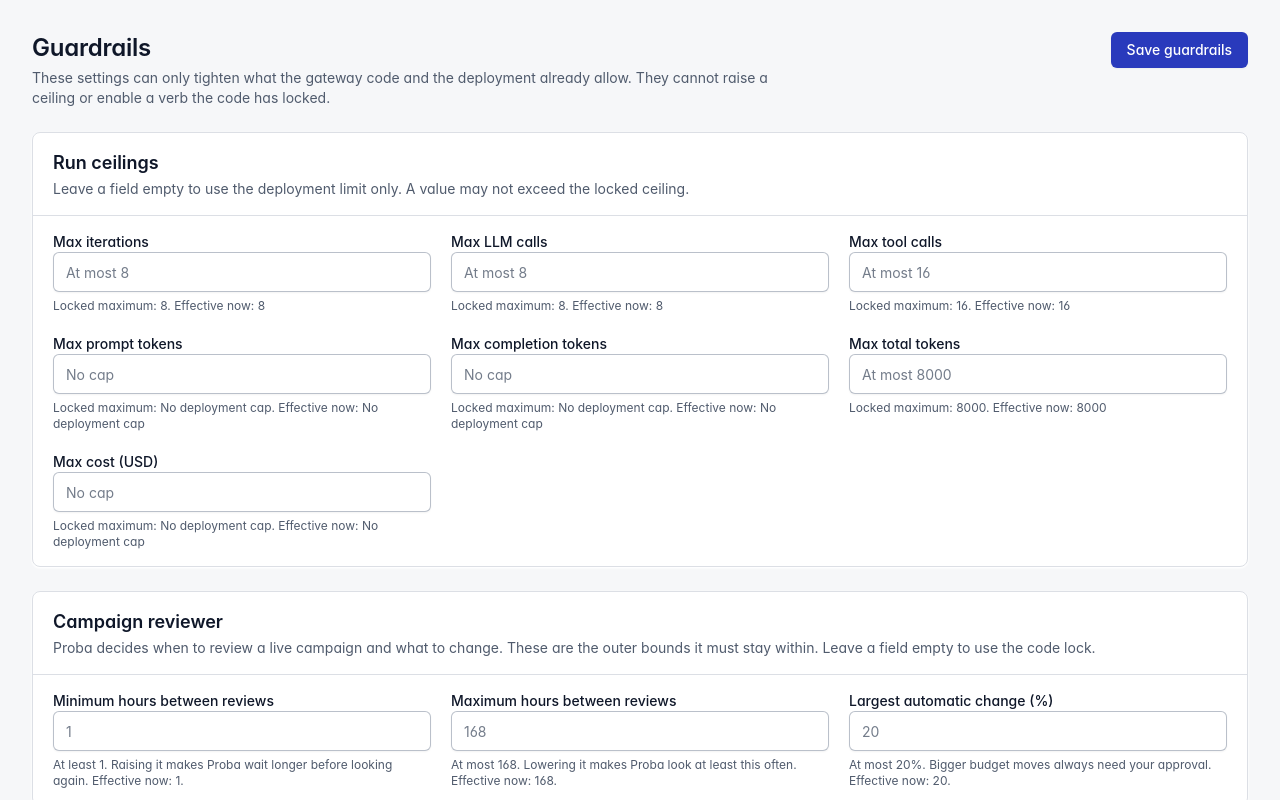
Test: GuardrailsView › refuses a looser reviewer bound
Type "50" into the field labelled "Largest automatic change (%)". click: (1038, 731)
box: [849,711,1227,751]
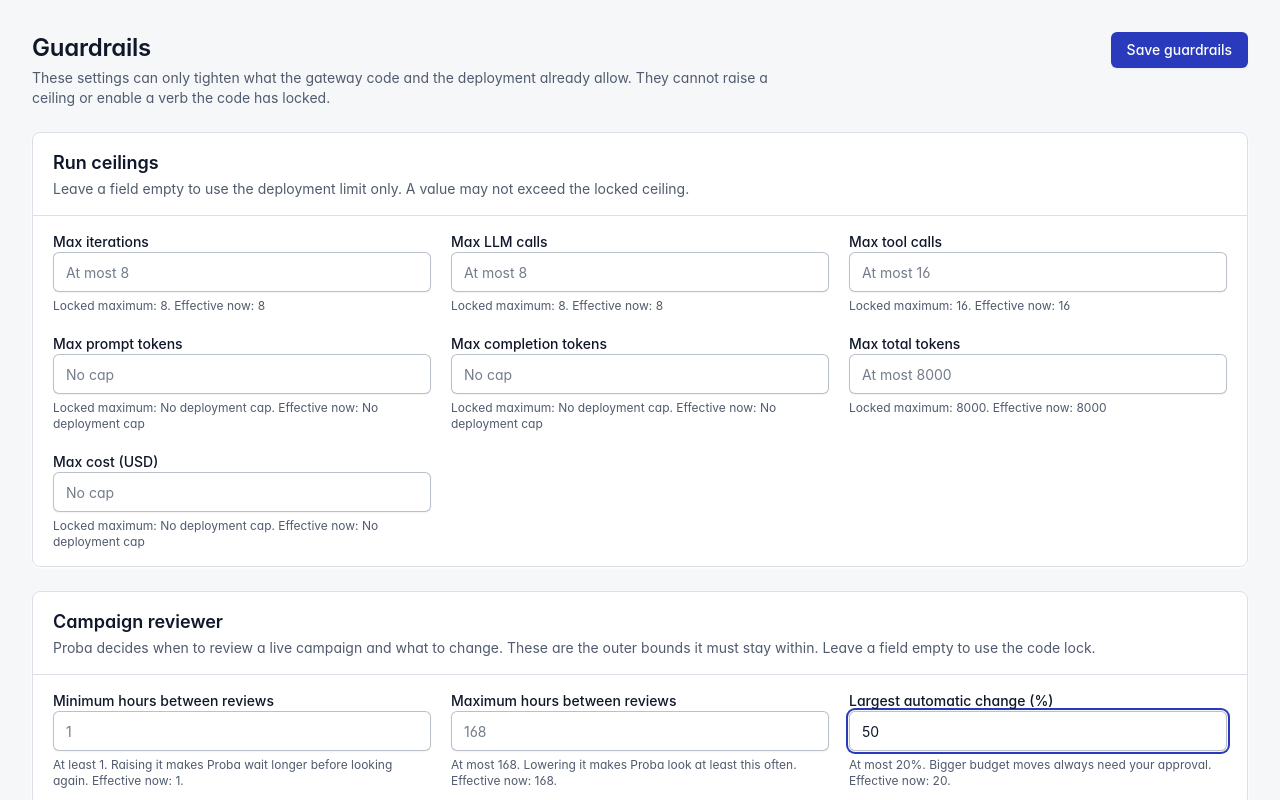
Click the button "Save guardrails". click: click(1179, 50)
box: [1111,32,1248,68]
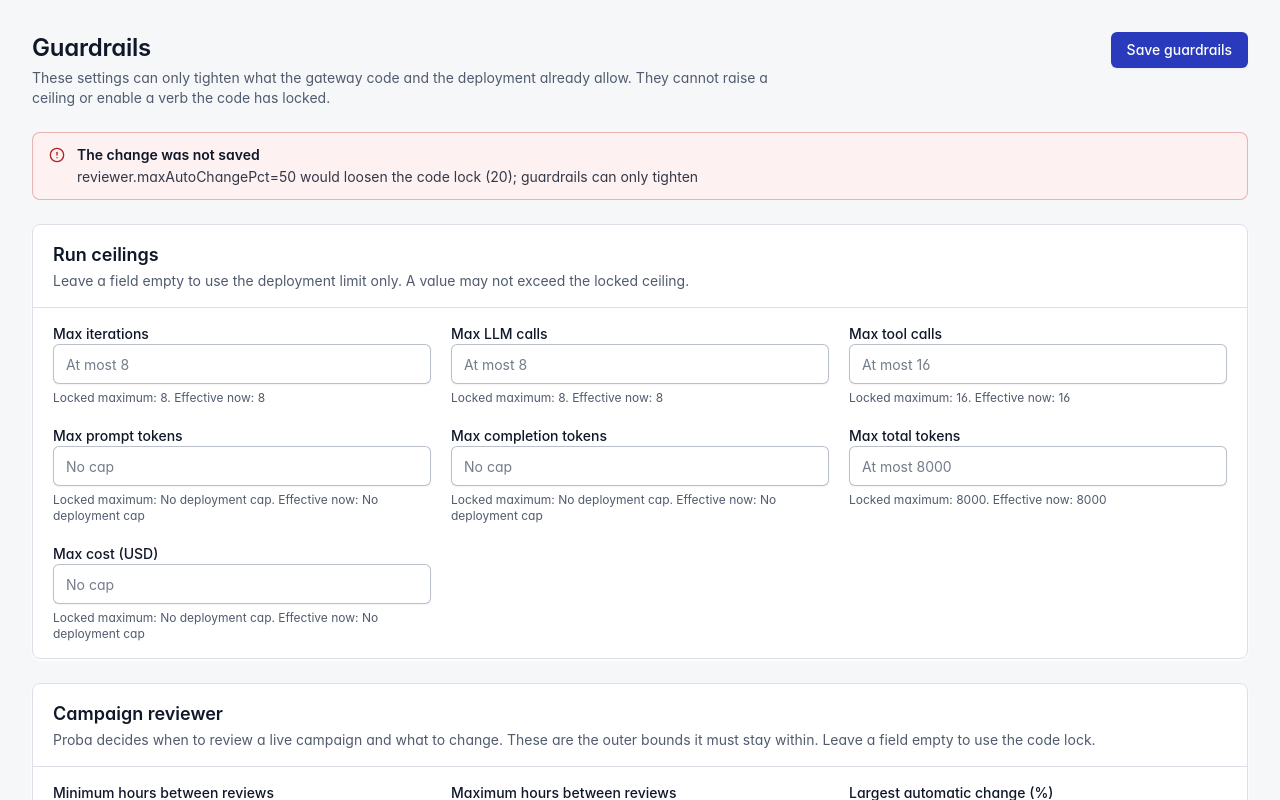
Result: the message shows "would loosen" at [77,168,698,185]
